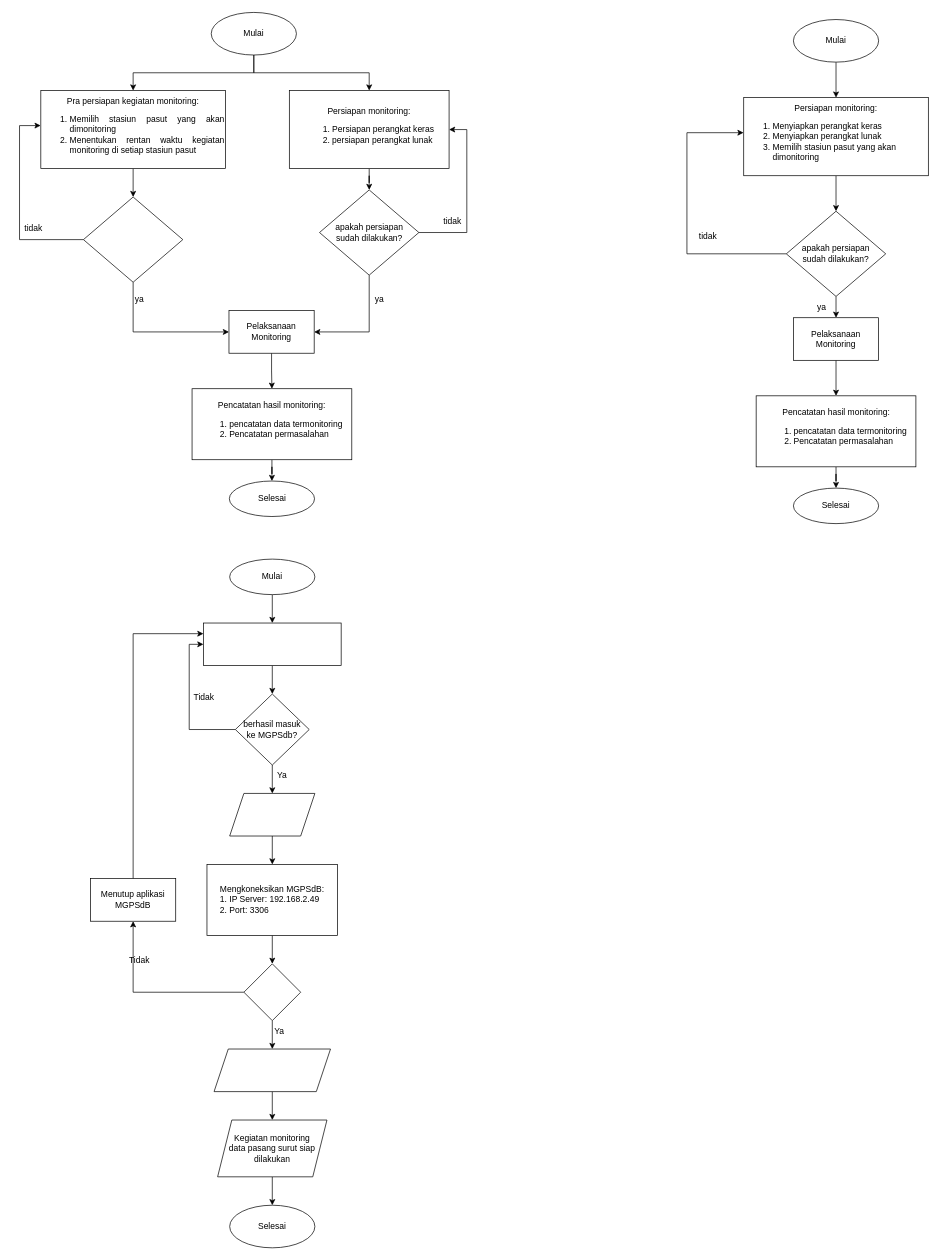
The diagram is 941 pixels wide and 1260 high, and some of its shapes have lost their labels. Each missing label, with the box of its shape:
apakah pra persiapan sudah dilakukan?: (83, 196, 183, 282)
Berhasil masuk ke MGPSdB: (229, 793, 315, 836)
Klik On?: (243, 963, 301, 1021)
Membuka aplikasi MGPSdB: Memasukkan user dan pasword: (203, 622, 341, 666)
User terkoneksi ke sistem basis data penyimpanan data pasang surut: (213, 1048, 331, 1092)
